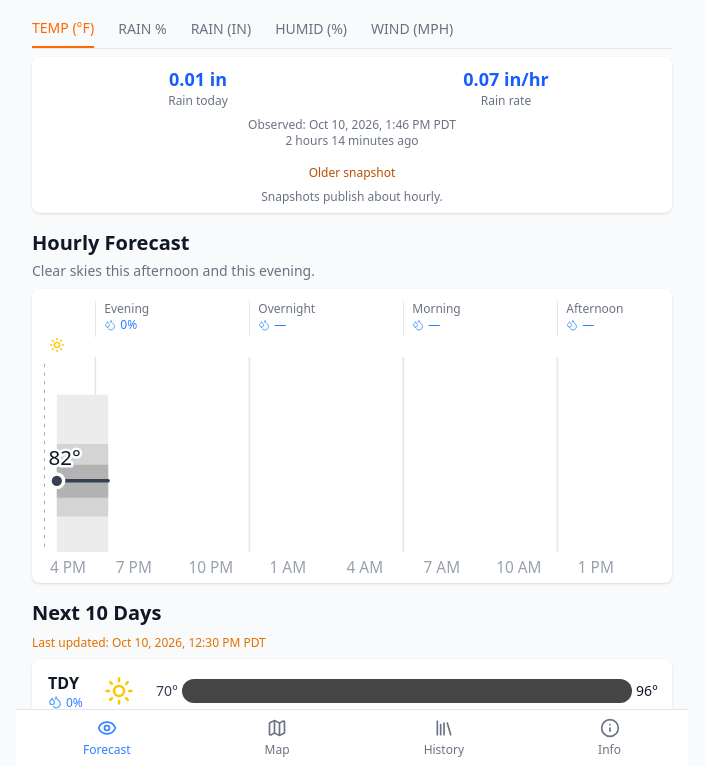
forecast freshness follows the client clock › preserves supplied forecast freshness before client-clock readiness
The width and height of the screenshot is (705, 766).
Click the button "Info": (610,738) x1=582 y1=714 x2=637 y2=762
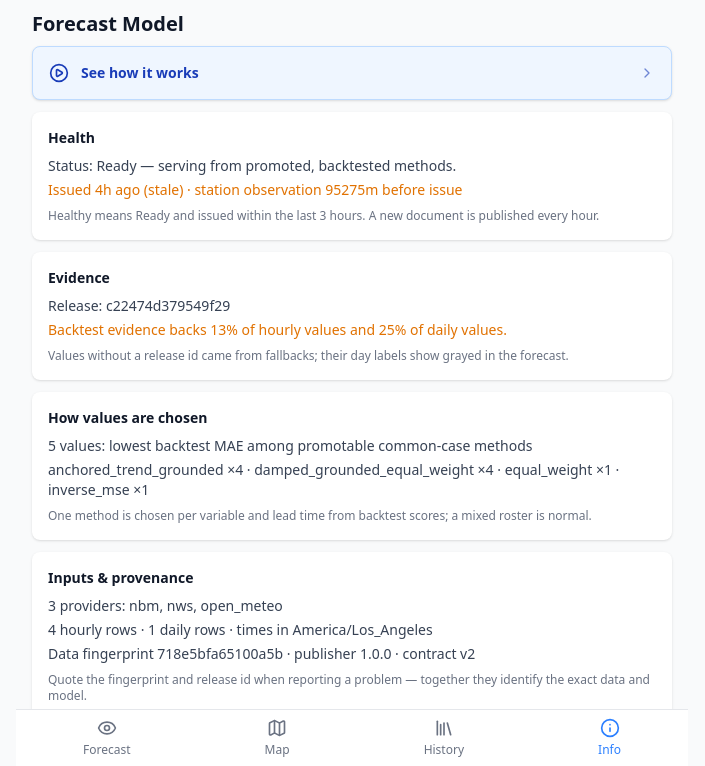
Check: the text "Issued 4h ago (stale)" is shown, box x1=48 y1=180 x2=462 y2=199
